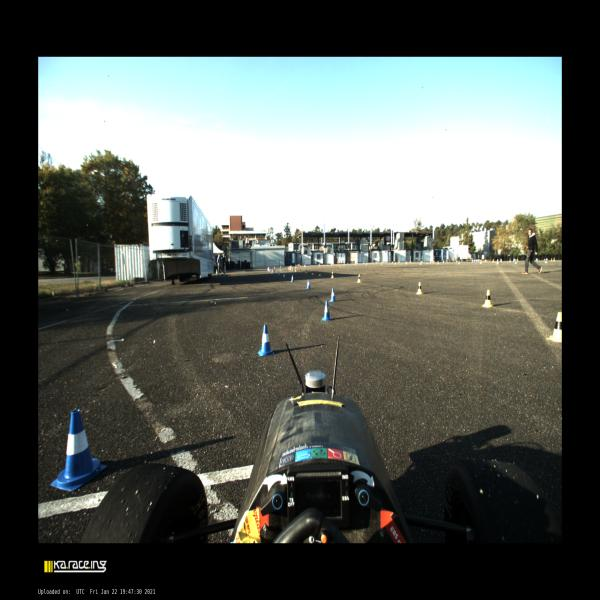blue_cone: (50, 409, 107, 492), (258, 324, 274, 356), (321, 300, 332, 321), (329, 288, 337, 302), (306, 279, 311, 289), (291, 275, 294, 282), (283, 274, 286, 278), (278, 271, 280, 277), (274, 270, 276, 274), (456, 260, 458, 263), (513, 259, 515, 262), (546, 258, 548, 261), (318, 263, 320, 266), (274, 266, 275, 270), (474, 260, 476, 262), (376, 262, 378, 264), (272, 270, 273, 273), (443, 260, 444, 263), (472, 260, 473, 263), (478, 259, 479, 262), (485, 259, 486, 262), (544, 258, 545, 261), (392, 261, 393, 264), (280, 266, 281, 268), (430, 262, 431, 264), (422, 261, 423, 263), (347, 263, 348, 265), (363, 262, 364, 264), (476, 260, 477, 262), (355, 263, 356, 265), (270, 269, 270, 272), (406, 261, 406, 264), (536, 258, 536, 261)
large_orange_cone: (290, 265, 292, 270), (268, 266, 269, 272)
orange_cone: (220, 269, 222, 272)
yellow_cone: (547, 312, 561, 342), (481, 290, 495, 308), (416, 282, 423, 294), (357, 274, 361, 283), (331, 272, 334, 278), (496, 259, 499, 264), (319, 271, 321, 276), (515, 260, 517, 264), (480, 260, 482, 264), (312, 270, 314, 274), (306, 269, 308, 273), (553, 258, 555, 261), (545, 260, 547, 263), (509, 259, 511, 262), (500, 259, 502, 262), (492, 259, 494, 262), (458, 261, 460, 264), (437, 261, 439, 264), (365, 262, 367, 265), (288, 267, 290, 270), (216, 269, 217, 274), (517, 258, 518, 262), (295, 268, 296, 272), (291, 268, 293, 270), (406, 262, 408, 264), (304, 265, 306, 267), (551, 258, 552, 261), (537, 258, 538, 261), (395, 262, 396, 265), (381, 262, 382, 265), (300, 269, 301, 272), (420, 262, 421, 264), (320, 264, 320, 267), (296, 264, 296, 268), (344, 264, 344, 266)
